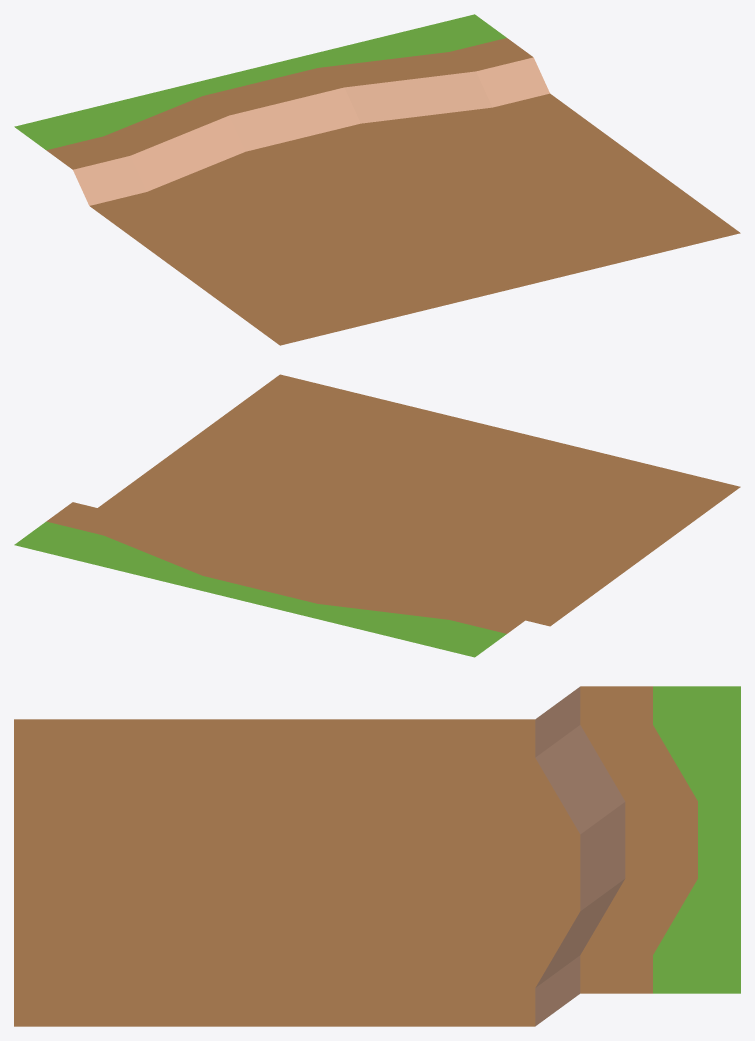
Rendered from ground_pathSide.glb.
3 views of the same model, one above another, from view 1: azimuth 30°, elevation 25°; view 2: azimuth 150°, elevation 25°; view 3: azimuth 270°, elevation 25° (orthographic). The views are drawn at different scales.
Visible parts, largest first — view 1: ground_pathSide; view 2: ground_pathSide; view 3: ground_pathSide.
Part boxes in pixels (x1,y1,x2,y2): ground_pathSide: [14, 14, 740, 345]; ground_pathSide: [14, 374, 740, 657]; ground_pathSide: [14, 686, 740, 1026].
Size of the model in its own units: 1 by 0.05 by 1.
